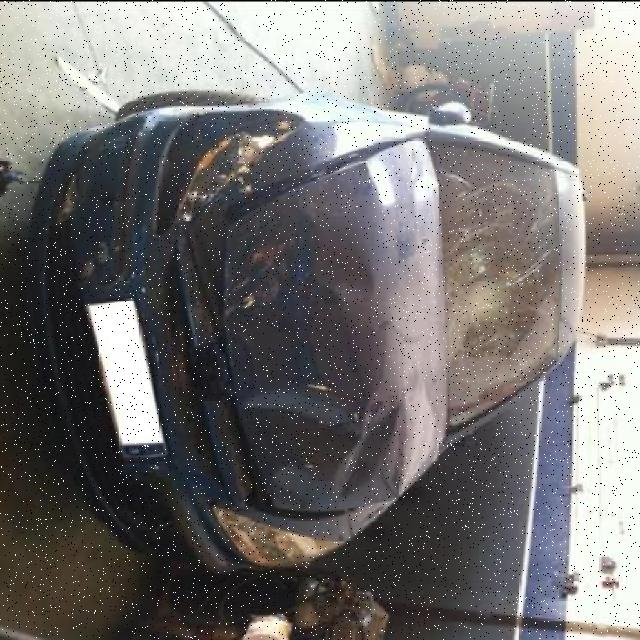damage: (222, 136, 448, 509), (446, 209, 547, 365), (173, 115, 306, 222), (80, 239, 112, 281)
